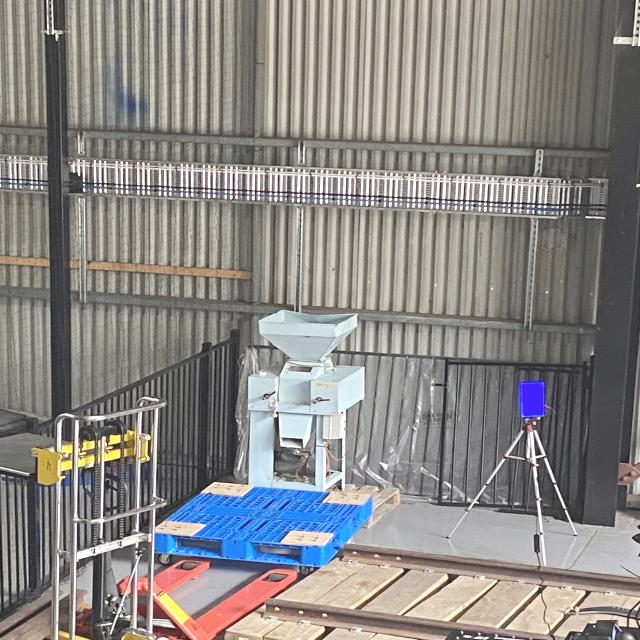matrix: (516, 378, 550, 421)
